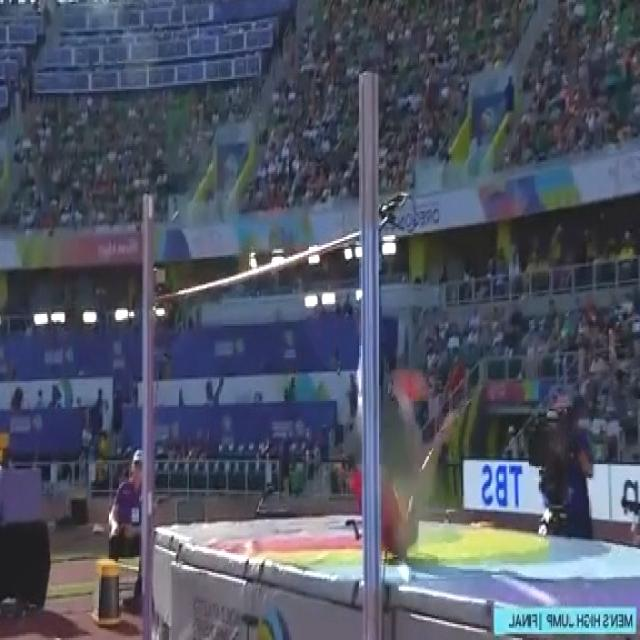land: (348, 375, 462, 560)
